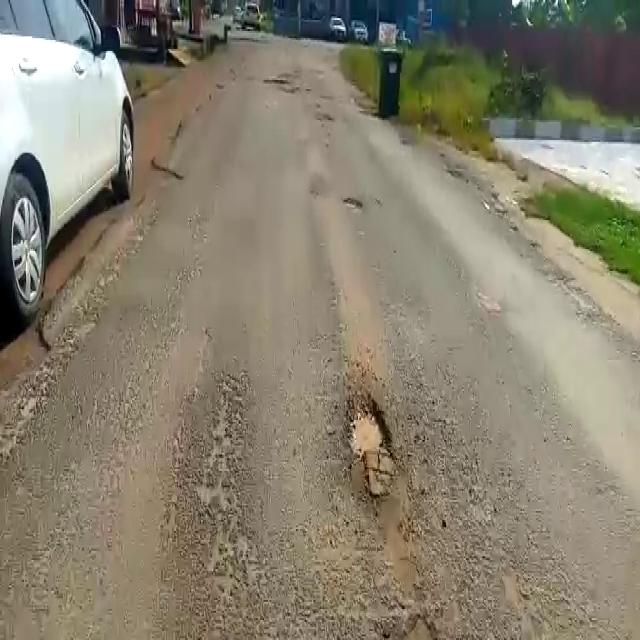Pothole: (342, 390, 401, 486)
